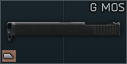Glock 9x19 MOS slide: (0, 0, 127, 64)
